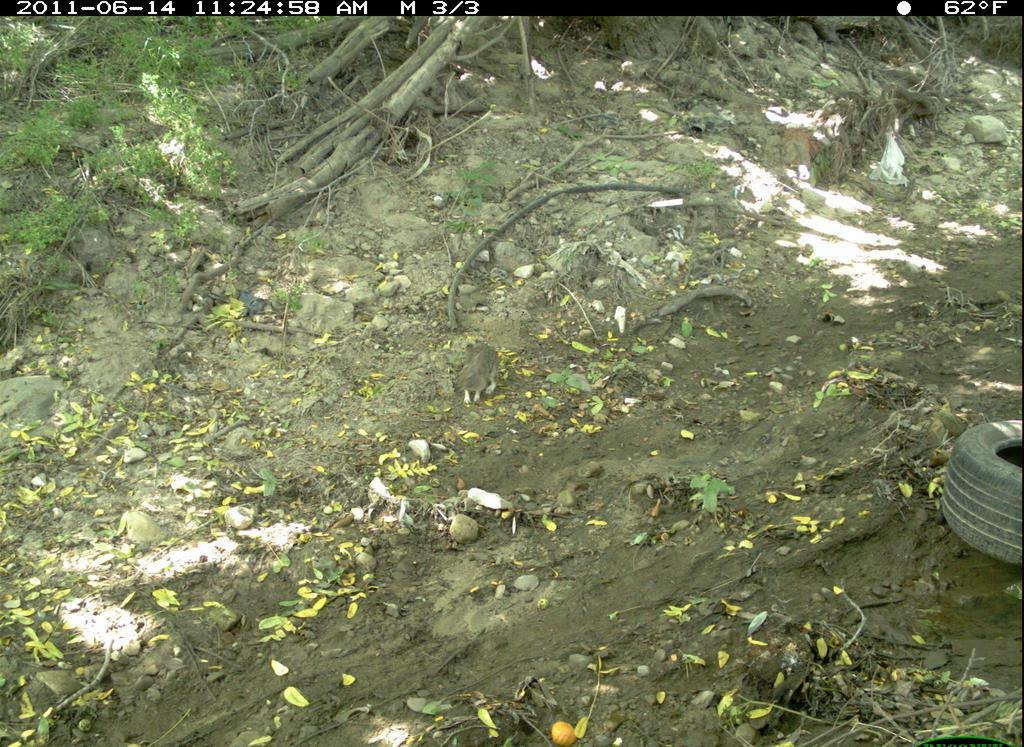rabbit: (447, 337, 511, 414)
